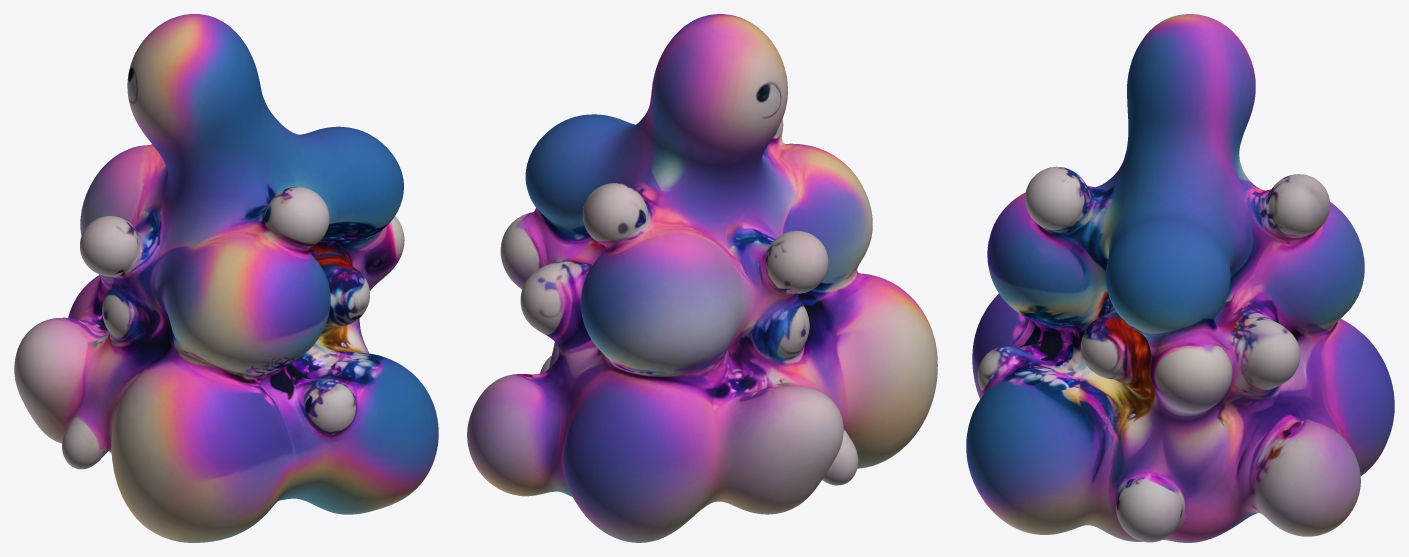
The model's file is hyper-sculpture.glb.
3 renders of one model, left to right at view 1: azimuth 30°, elevation 25°; view 2: azimuth 150°, elevation 25°; view 3: azimuth 270°, elevation 25°, orthographic. The views are drawn at different scales.
Parts seen in each view (by area): view 1: material; view 2: material; view 3: material.
Boxes of the visible parts, x1=… form: material: x1=14, y1=14, x2=438, y2=542; material: x1=467, y1=14, x2=937, y2=542; material: x1=966, y1=14, x2=1394, y2=542.
Bounding box in the file's own units: 0.778 × 0.9872 × 0.8215.
1 material, 1 textured.
